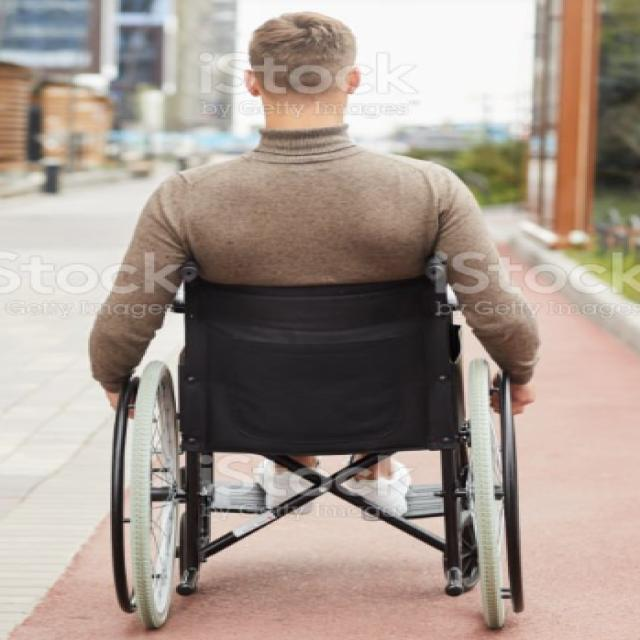wheelchair: (88, 12, 545, 632)
